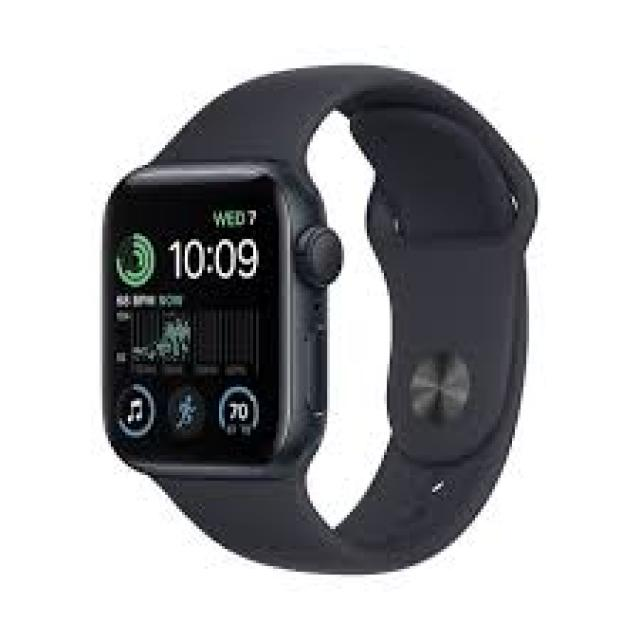objects: (105, 65, 535, 572)
